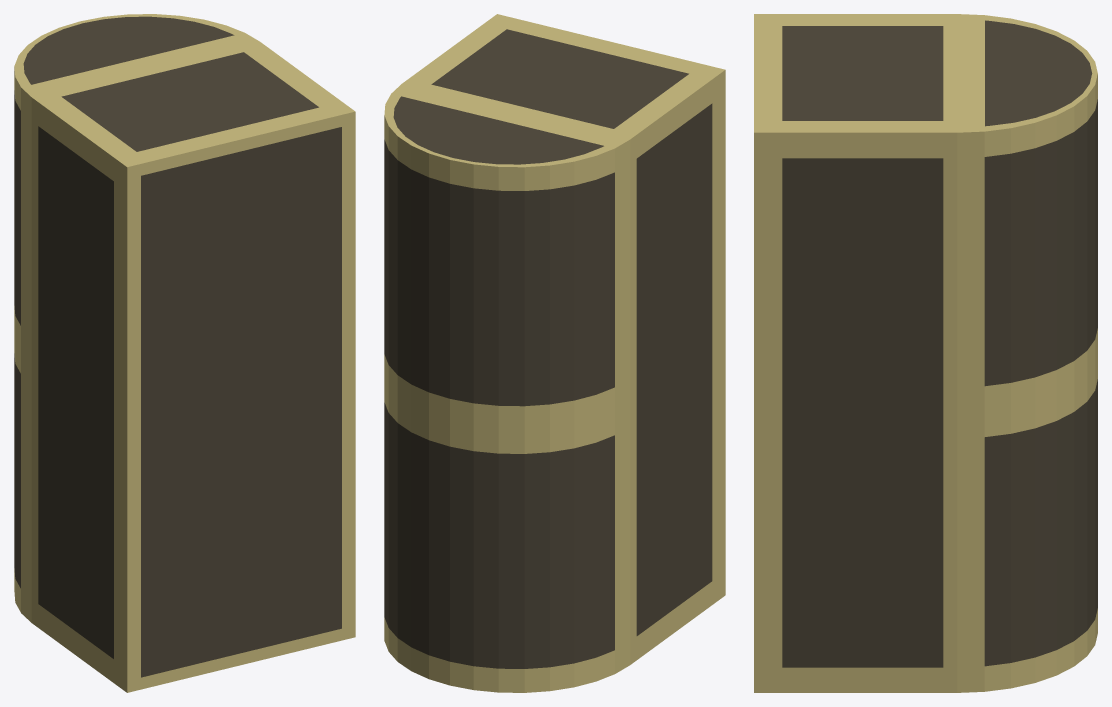
File: Shipwreck.fbx
3 views of the same model, side by side, from view 1: azimuth 30°, elevation 25°; view 2: azimuth 150°, elevation 25°; view 3: azimuth 270°, elevation 25° (orthographic). The views are drawn at different scales.
Visible parts, largest first — view 1: Trunk, Lid; view 2: Lid, Trunk; view 3: Trunk, Lid.
Part boxes in pixels (bbox=[...]): Trunk: bbox=[31, 42, 355, 692]; Lid: bbox=[14, 14, 259, 622]; Lid: bbox=[384, 84, 630, 692]; Trunk: bbox=[402, 14, 725, 664]; Trunk: bbox=[754, 14, 957, 692]; Lid: bbox=[957, 14, 1097, 692].
Bounding box in the file's own units: 200 × 440 × 245.
